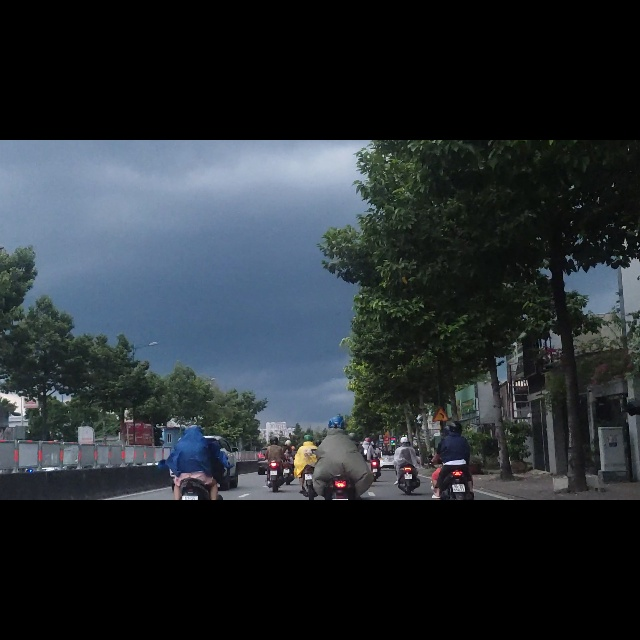bien_hieu_lenh: (433, 476, 449, 500)
